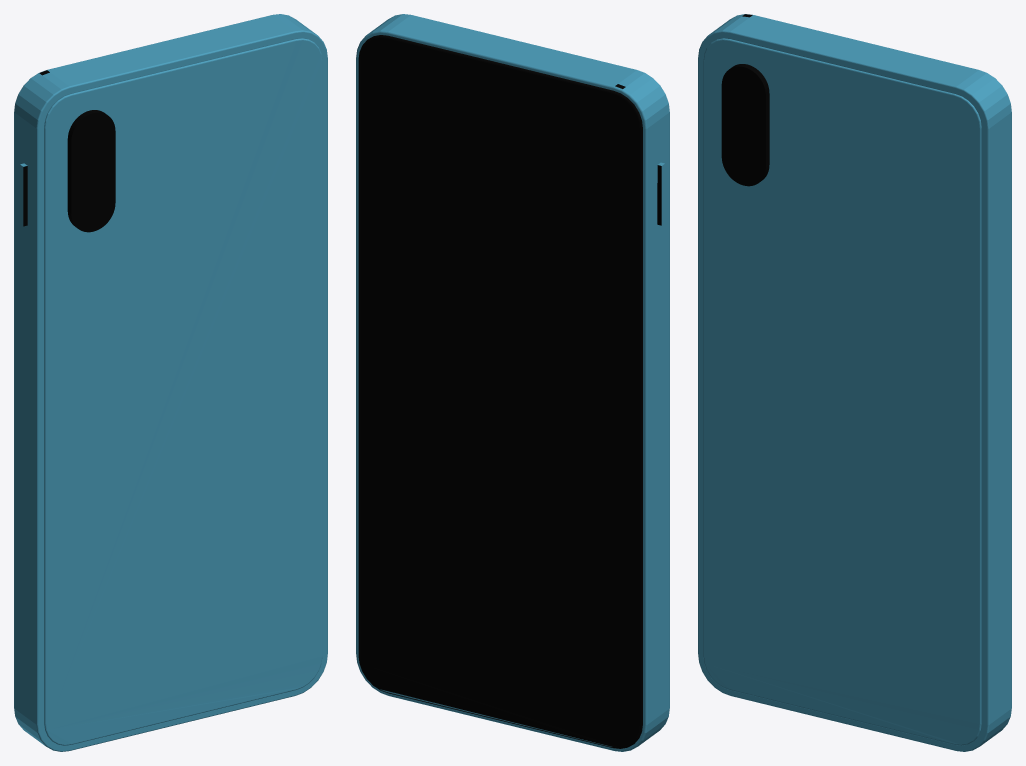
The model's file is Phone.fbx.
3 views of the same model, side by side, from view 1: azimuth 30°, elevation 25°; view 2: azimuth 150°, elevation 25°; view 3: azimuth 330°, elevation 25° (orthographic).
Visible parts, largest first — view 1: Cube, Cube_1; view 2: Cube; view 3: Cube, Cube_1.
Boxes of the visible parts, x1,y1,x2,y2 form: Cube: [14, 14, 327, 751]; Cube_1: [67, 110, 115, 232]; Cube: [356, 14, 669, 751]; Cube: [698, 14, 1011, 751]; Cube_1: [721, 64, 769, 186].
Bounding box in the file's own units: 45.17 × 97.08 × 7.94.
